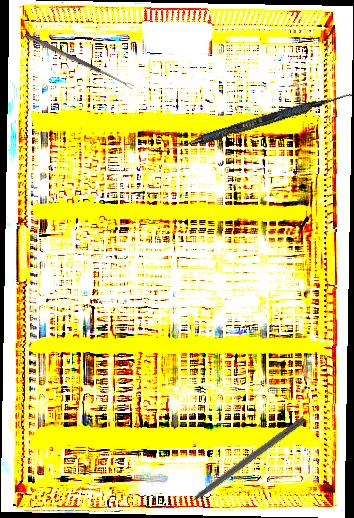Hook Surgical: (174, 414, 307, 515)
Spatula Surgical: (151, 86, 353, 162)
Surgical Spoon: (23, 32, 135, 91)
